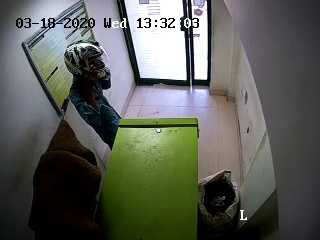helmet: (64, 39, 112, 83)
